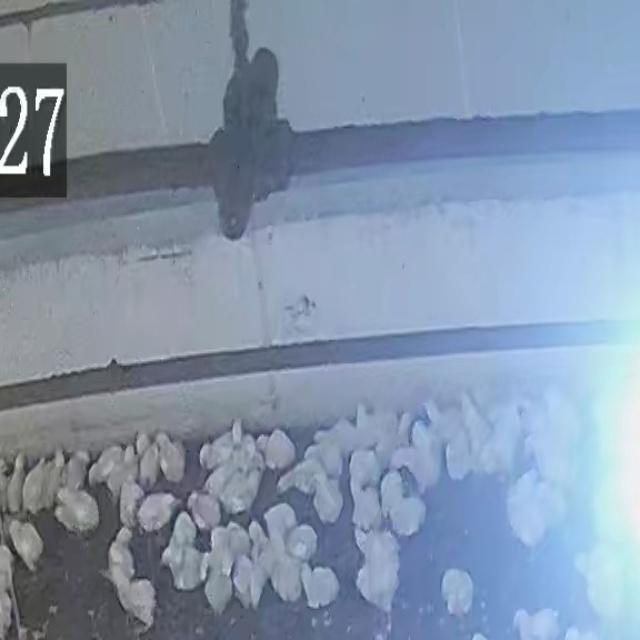chicken: (476, 404, 522, 482), (506, 477, 555, 548), (101, 570, 163, 626), (392, 427, 444, 493), (357, 544, 403, 612), (375, 413, 414, 471), (56, 488, 103, 534), (351, 526, 400, 570), (506, 600, 559, 640), (220, 469, 267, 513), (157, 546, 205, 589), (151, 427, 186, 482), (439, 566, 475, 619), (299, 563, 341, 608), (6, 516, 41, 569), (275, 459, 323, 496), (202, 554, 232, 610), (103, 530, 134, 584), (388, 497, 428, 538), (457, 392, 486, 446), (423, 398, 459, 441), (355, 406, 387, 451), (449, 429, 474, 485), (272, 554, 301, 602), (236, 559, 266, 605), (257, 428, 293, 466), (304, 440, 344, 474), (107, 448, 135, 495), (197, 432, 233, 468), (265, 505, 295, 548), (247, 521, 272, 572), (316, 476, 344, 521), (140, 494, 173, 532), (211, 450, 244, 488), (89, 445, 121, 483), (350, 450, 377, 495), (316, 422, 355, 453), (190, 490, 220, 530), (210, 528, 234, 576), (379, 473, 403, 520), (352, 484, 378, 526), (286, 524, 316, 559), (139, 440, 159, 487), (64, 451, 87, 491), (116, 484, 140, 521), (27, 458, 43, 513), (228, 518, 250, 558), (45, 442, 58, 507), (9, 454, 23, 513), (174, 513, 197, 547)
